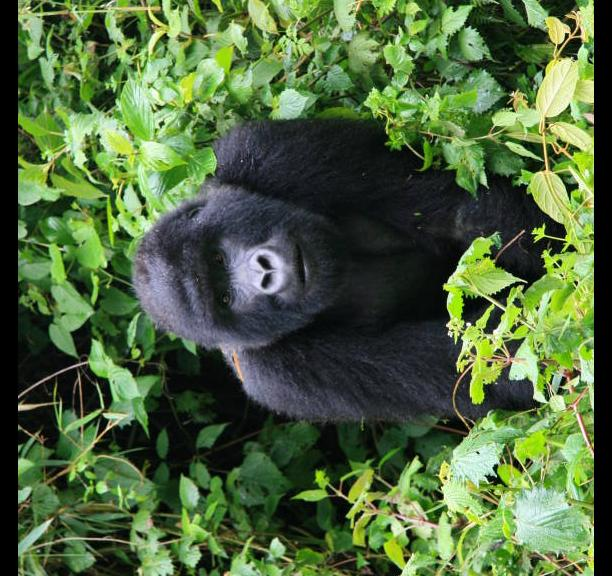goriile_montagne: (125, 104, 538, 406)
